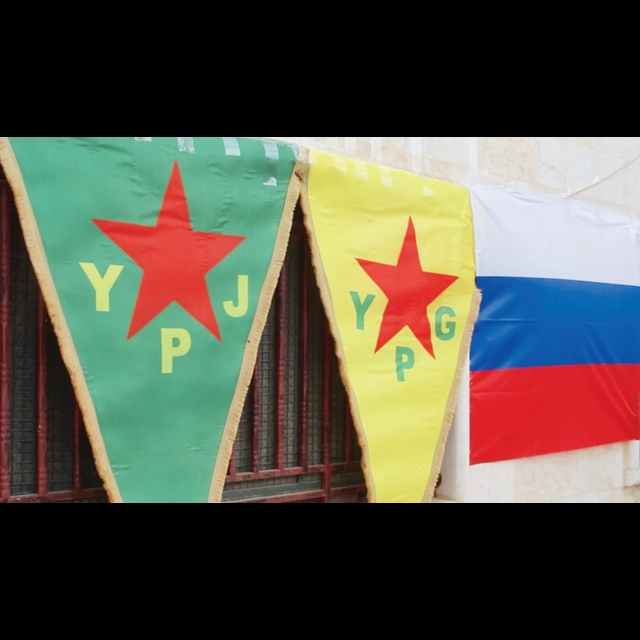YPG: (349, 215, 458, 388)
YPJ: (79, 160, 249, 380)
